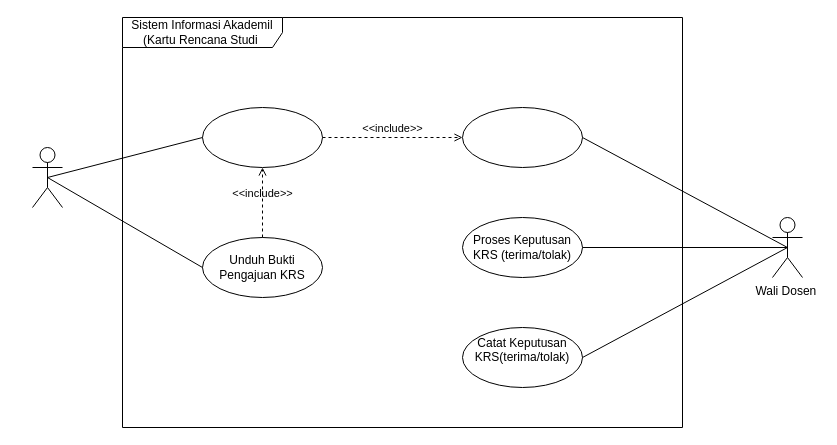
This 837x445 diagram has some shape labels left out. The shapes that lost their labels are listed below. From the top down, each one's centre as x and y in pixels, then its label:
the point at 262,137: Ajukan KRS
the point at 522,137: Validasi KRS
the point at 47,177: Mahasiswa
